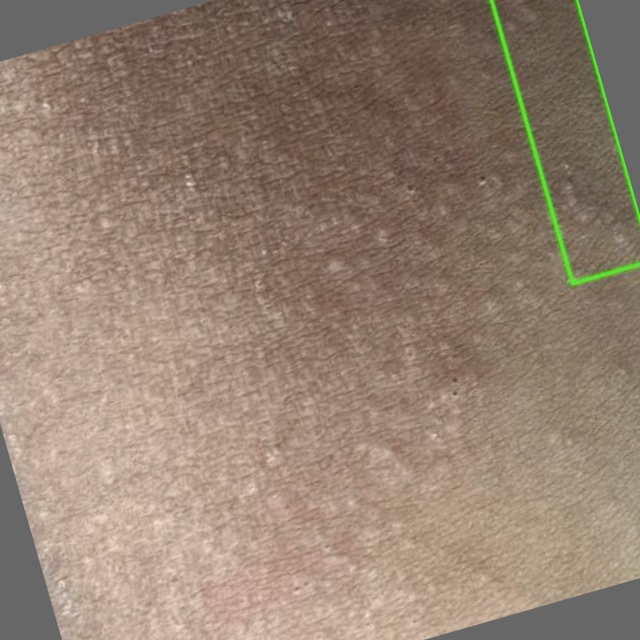Contact Dermatitis: (490, 0, 639, 284)
